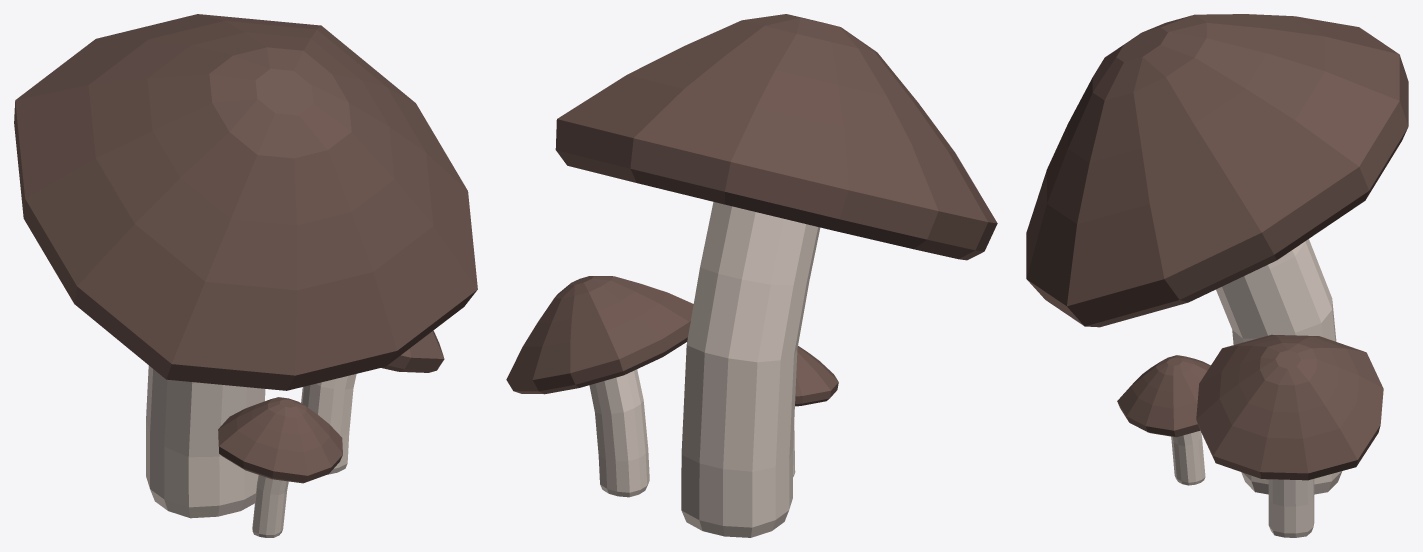
The model's file is Mushroom1.2.fbx.
The picture shows the model from 3 angles, left to right: view 1: azimuth 30°, elevation 25°; view 2: azimuth 150°, elevation 25°; view 3: azimuth 270°, elevation 25°; orthographic projection. The views are drawn at different scales.
Parts seen in each view (by area): view 1: Mushroom1.2; view 2: Mushroom1.2; view 3: Mushroom1.2.
Boxes of the visible parts, x1,y1,x2,y2 form: Mushroom1.2: (14,14,477,537); Mushroom1.2: (506,14,997,537); Mushroom1.2: (1026,14,1408,537).
Size of the model in its own units: 187 by 205 by 159.
